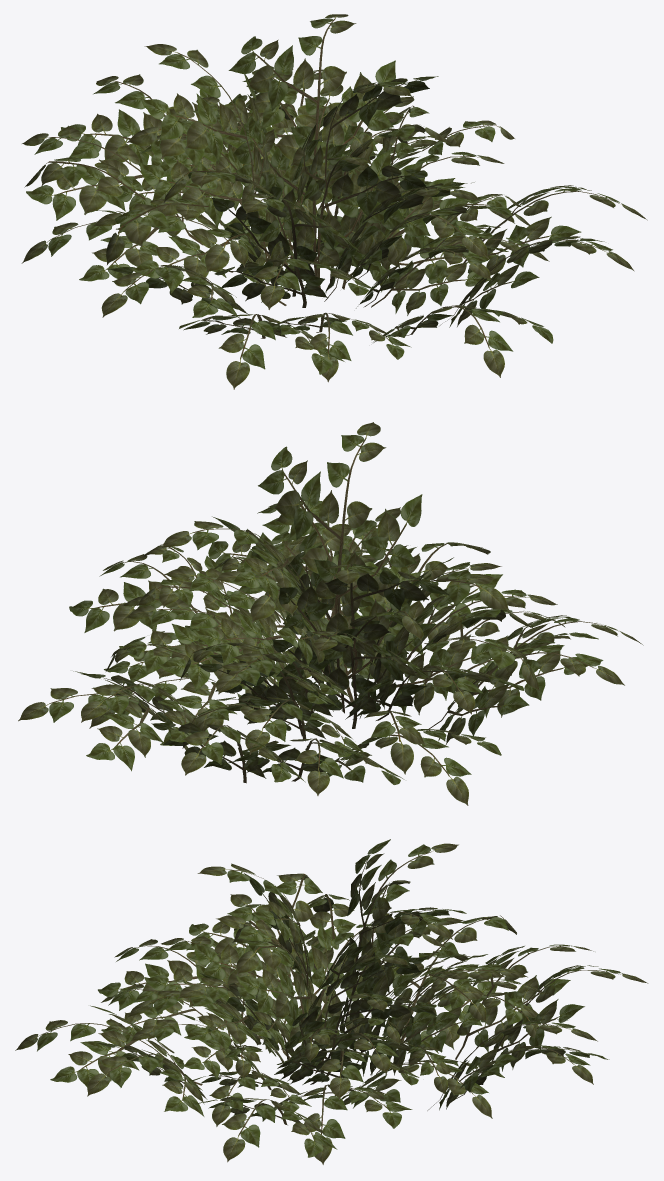
Rendered from PW_Plant_Bush_01_03.fbx.
3 views of the same model, one above another, from view 1: azimuth 30°, elevation 25°; view 2: azimuth 150°, elevation 25°; view 3: azimuth 270°, elevation 25° (orthographic). The views are drawn at different scales.
Parts seen in each view (by area): view 1: PW_Plants_Bushes_03_LOD0; view 2: PW_Plants_Bushes_03_LOD0; view 3: PW_Plants_Bushes_03_LOD0.
Boxes of the visible parts, bbox=[...] form: PW_Plants_Bushes_03_LOD0: bbox=[21, 14, 647, 389]; PW_Plants_Bushes_03_LOD0: bbox=[18, 422, 643, 805]; PW_Plants_Bushes_03_LOD0: bbox=[15, 839, 648, 1164].
Size of what is drawn, in the model's own units: 229 by 101 by 259.
1 material, 1 textured.
